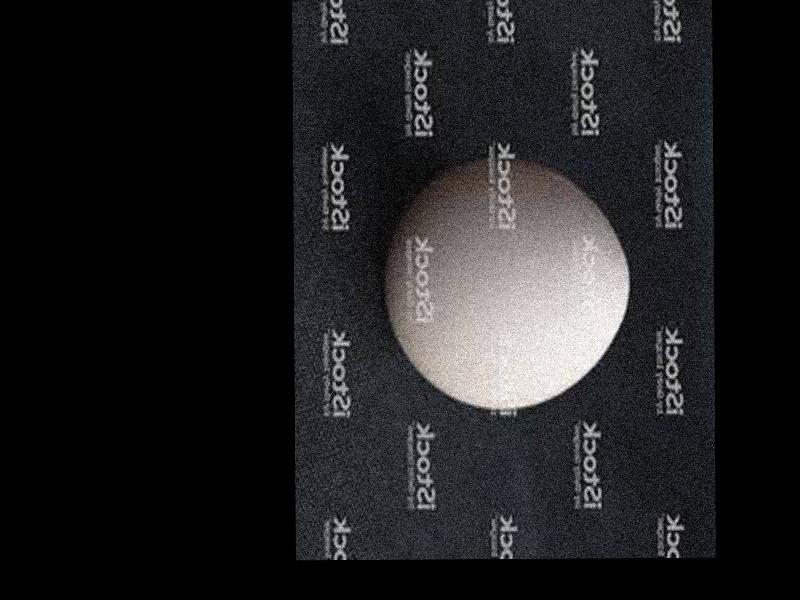Eggs: (382, 157, 630, 410)
